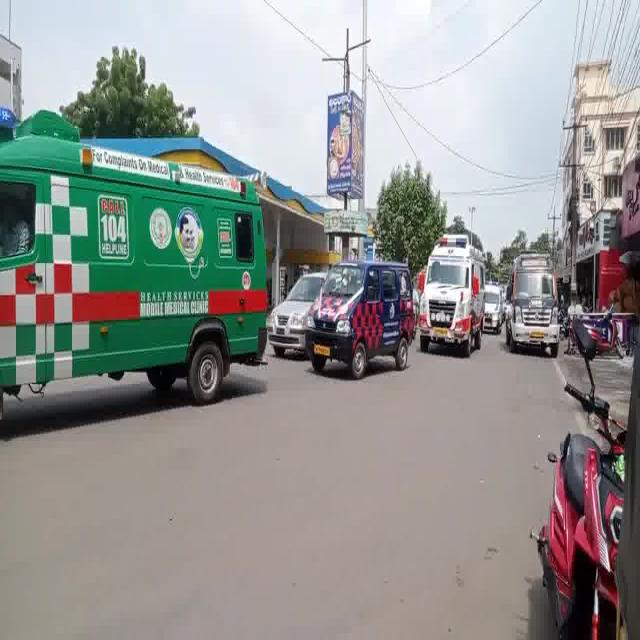ambulance: (2, 101, 272, 415), (307, 250, 417, 368), (422, 226, 484, 372), (508, 246, 564, 371), (486, 267, 503, 347)
